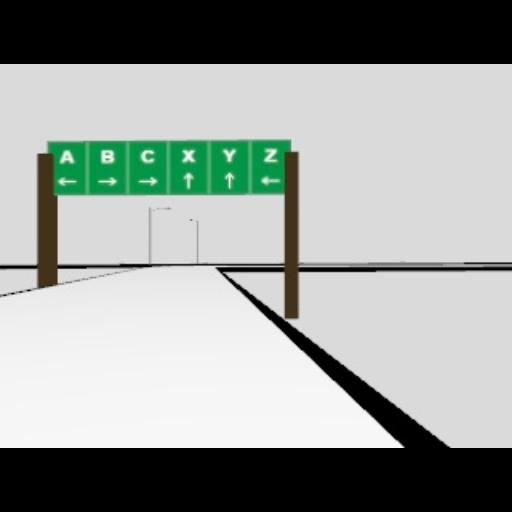A: (58, 149, 74, 163)
B: (99, 149, 113, 163)
C: (139, 149, 155, 163)
Left: (260, 174, 280, 186), (56, 176, 78, 186)
Right: (96, 176, 116, 186), (136, 176, 156, 186)
Straight: (182, 171, 194, 189), (224, 171, 234, 189)
X: (181, 148, 195, 162)
Y: (223, 147, 237, 161)
Z: (262, 147, 278, 161)
